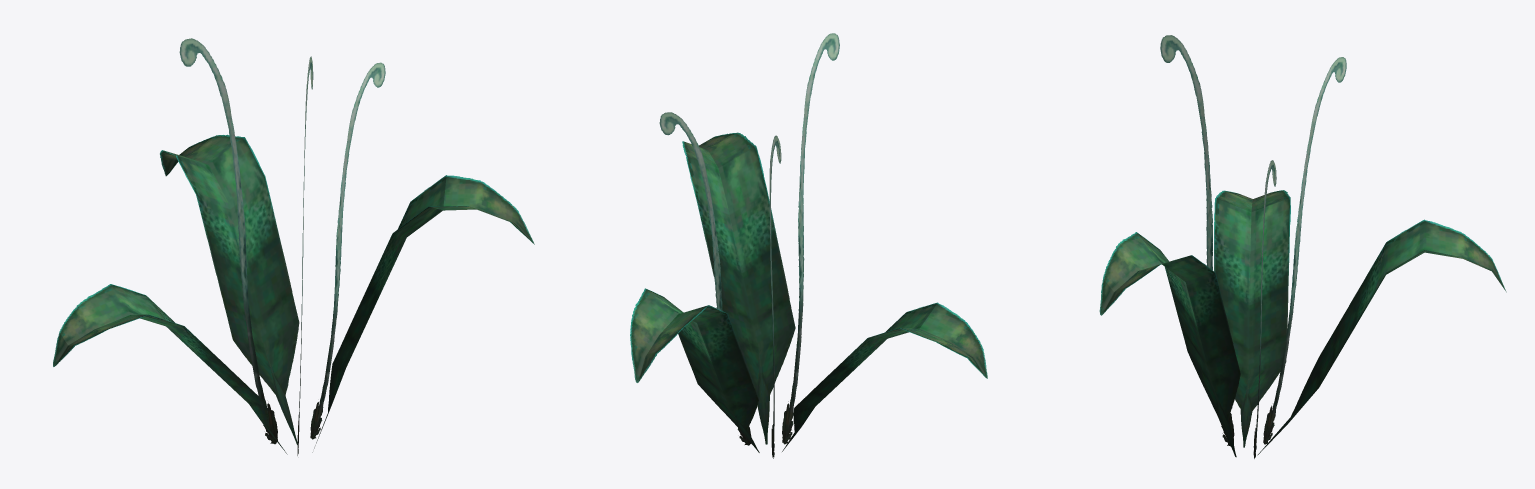
The model's file is leaf_dath_rinor_l0.fbx.
3 renders of one model, left to right at view 1: azimuth 30°, elevation 25°; view 2: azimuth 150°, elevation 25°; view 3: azimuth 270°, elevation 25°, orthographic. The views are drawn at different scales.
Parts seen in each view (by area): view 1: mesh_node; view 2: mesh_node; view 3: mesh_node.
Boxes of the visible parts, bbox=[...] form: mesh_node: bbox=[53, 38, 534, 455]; mesh_node: bbox=[630, 33, 987, 458]; mesh_node: bbox=[1099, 35, 1506, 458].
Bounding box in the file's own units: 1.88 × 1.84 × 1.77.
